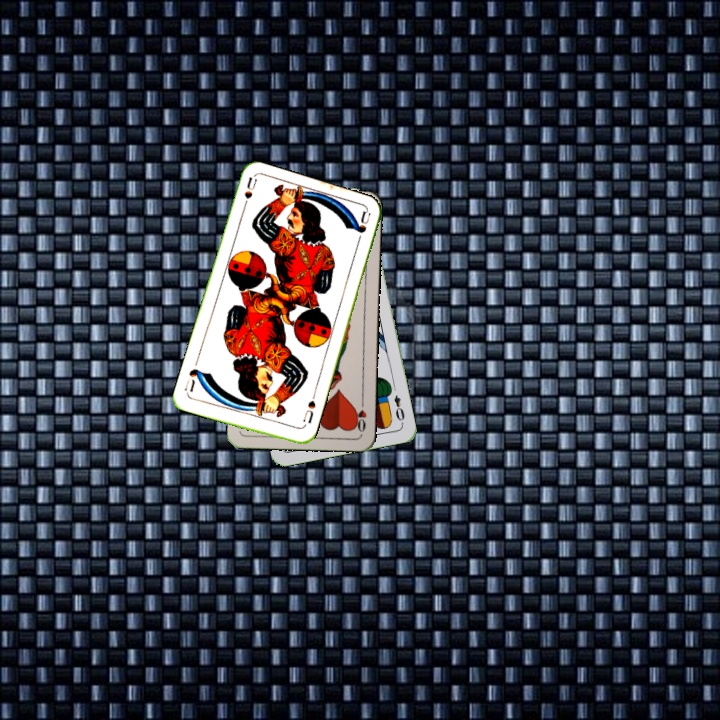EO: (390, 391, 407, 427)
HO: (351, 395, 369, 434)
SU: (238, 174, 259, 215), (299, 391, 318, 426)
